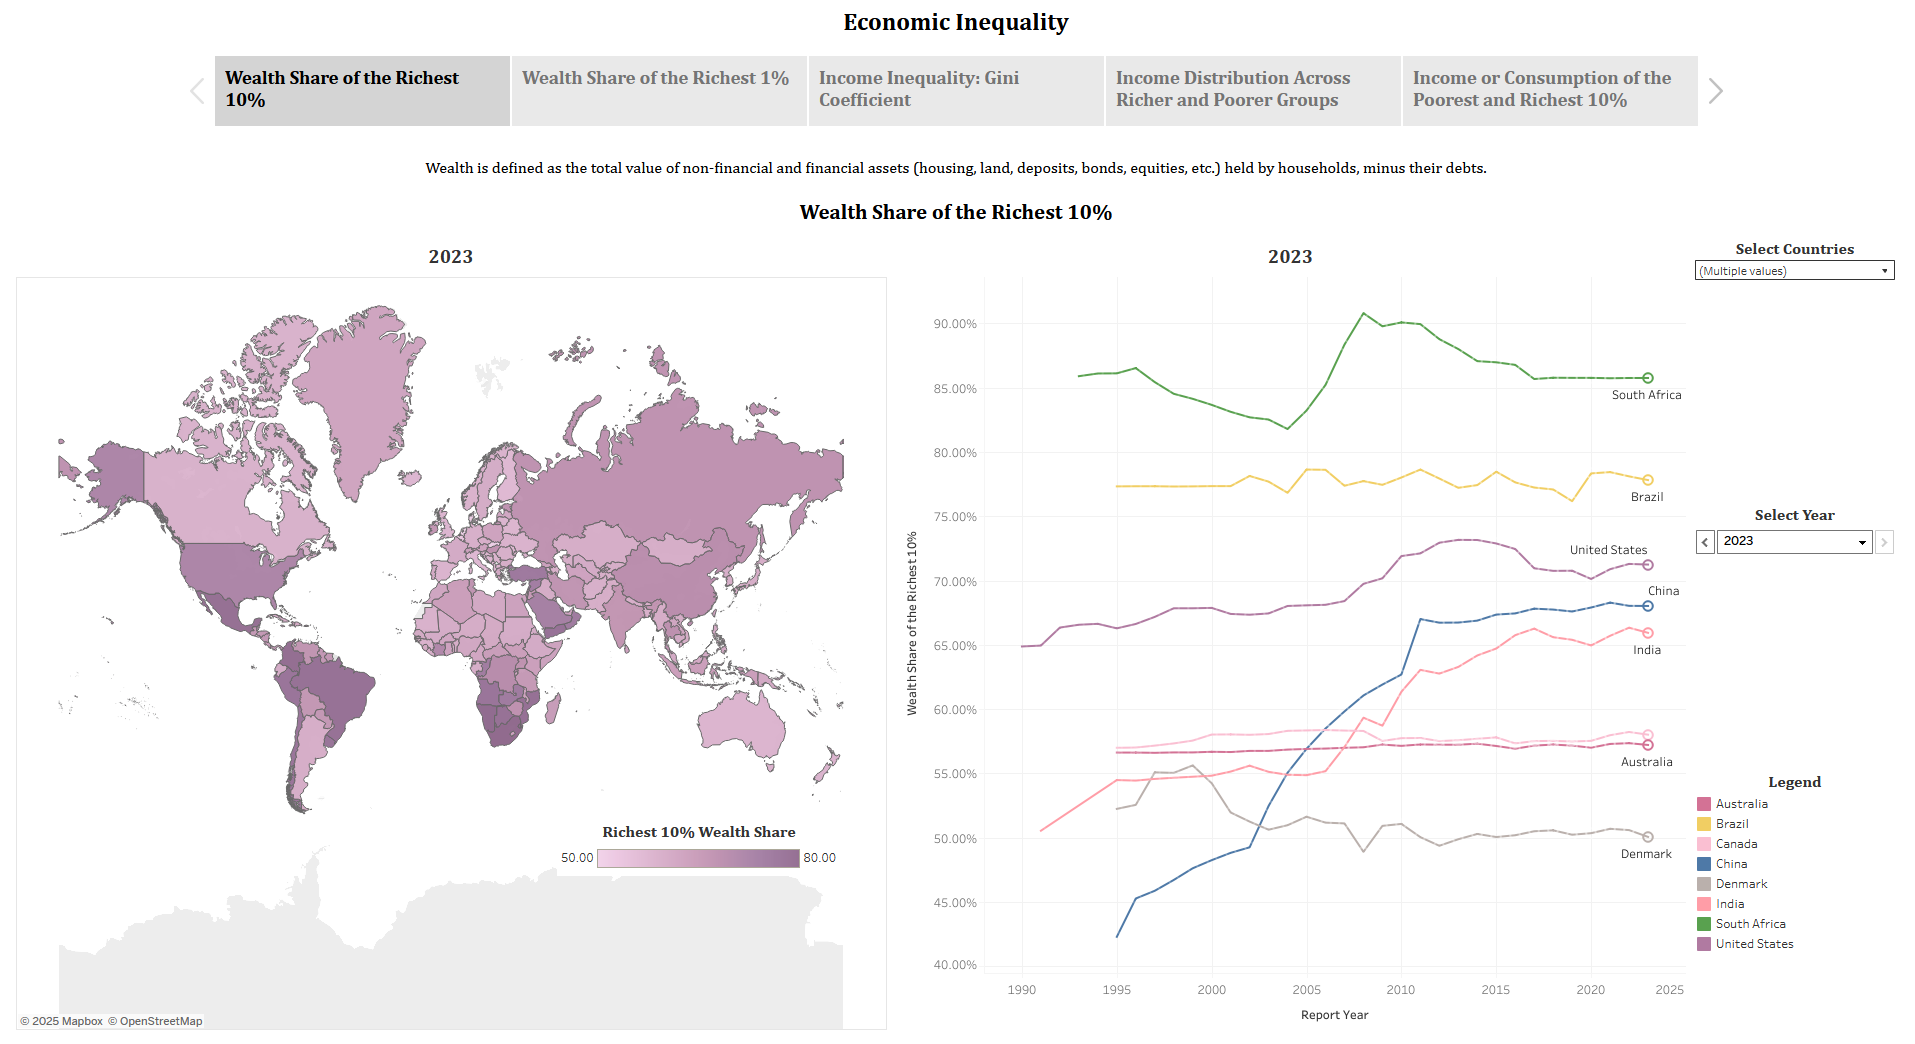

What the dashboard file says about the page in this screenshot:
{"tool":"tableau","page":{"name":"Wealth Share_10","canvas":[1000,1000],"units":"permille","ordinal":4},"visuals":[{"type":"text","box":[4.9,9.3,990.3,47.9]},{"type":"text","box":[4.9,57.2,990.3,50.2]},{"type":"worksheet","title":"Wealth_Share_Top_10_Map","mark":"Multipolygon","box":[4.9,107.5,460.8,883.2]},{"type":"worksheet","title":"Wealth_Share_Top_10_Line","mark":"Automatic","rows":["richest_10_wealth_share"],"cols":["report_year"],"box":[465.7,107.5,419.5,883.2]},{"type":"filter","title":"Wealth_Share_Top_10_Line","param":"[federated.1qcdzq31n7pf661bkgw990npmmkm].[none:country:nk]","box":[885.2,107.5,109.9,294.4]},{"type":"currpage","title":"Wealth_Share_Top_10_Map","box":[885.2,401.9,109.9,294.4]},{"type":"legend","title":"Wealth_Share_Top_10_Line","param":"[federated.1qcdzq31n7pf661bkgw990npmmkm].[none:country:nk]","box":[885.2,696.3,109.9,294.4]},{"type":"legend","title":"Wealth_Share_Top_10_Map","param":"[federated.17ujjxb1c8zs9i1cr6mn51ct6lcp].[none:richest_10_wealth_share:qk]","box":[290.2,757,149.4,59.6]}]}

Visuals, with their boxes on the dashboard's canvas, which has no fixed pixel size, in thousandths of its width and height (x1, y1, x2, y2). These are canvas units, not pixel positions in the 1915x1044 screenshot, which may show the page scaled, cropped or inside an application window:
text: bbox=(5, 9, 995, 57)
text: bbox=(5, 57, 995, 107)
"Wealth_Share_Top_10_Map" worksheet (Multipolygon marks): bbox=(5, 108, 466, 991)
"Wealth_Share_Top_10_Line" worksheet: bbox=(466, 108, 885, 991)
"Wealth_Share_Top_10_Line" filter: bbox=(885, 108, 995, 402)
"Wealth_Share_Top_10_Map" currpage: bbox=(885, 402, 995, 696)
"Wealth_Share_Top_10_Line" legend: bbox=(885, 696, 995, 991)
"Wealth_Share_Top_10_Map" legend: bbox=(290, 757, 440, 817)
